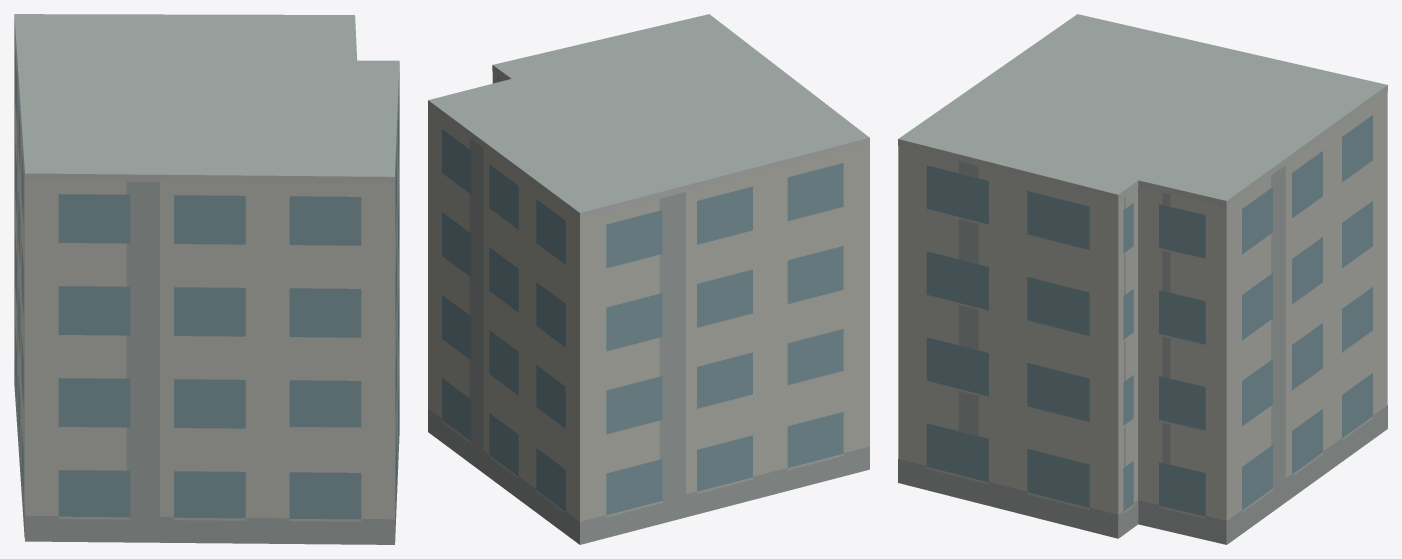
The model's file is residential-33848e0f-9ef1-4f02-bf47-54f5a4a486c1.glb.
3 renders of one model, left to right at view 1: azimuth 30°, elevation 25°; view 2: azimuth 150°, elevation 25°; view 3: azimuth 270°, elevation 25°, orthographic. The views are drawn at different scales.
Visible parts, largest first — view 1: residential-33848e0f-9ef1-4f02-bf47-54f5a4a486c1.tmp; view 2: residential-33848e0f-9ef1-4f02-bf47-54f5a4a486c1.tmp; view 3: residential-33848e0f-9ef1-4f02-bf47-54f5a4a486c1.tmp.
Boxes of the visible parts, x1=… form: residential-33848e0f-9ef1-4f02-bf47-54f5a4a486c1.tmp: x1=14, y1=14, x2=399, y2=544; residential-33848e0f-9ef1-4f02-bf47-54f5a4a486c1.tmp: x1=428, y1=14, x2=869, y2=544; residential-33848e0f-9ef1-4f02-bf47-54f5a4a486c1.tmp: x1=898, y1=14, x2=1387, y2=544.
Size of the model in its own units: 14.23 by 12.2 by 15.75.
